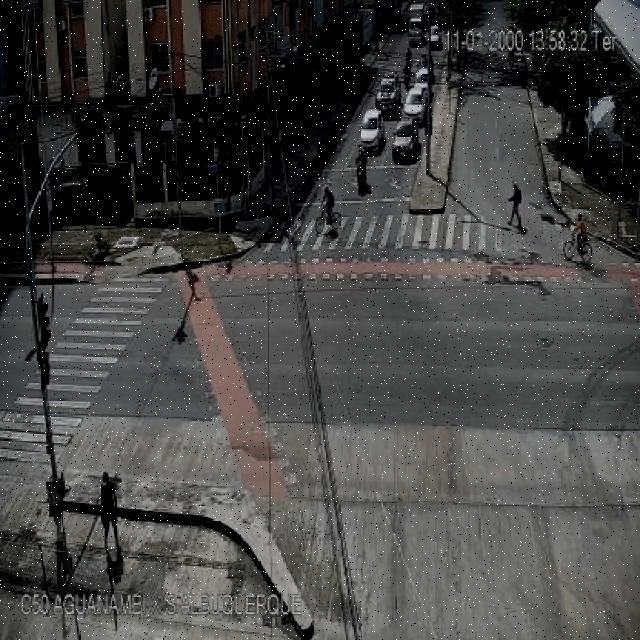Car: (391, 119, 426, 165), (356, 111, 386, 152), (404, 83, 430, 120), (374, 75, 400, 112), (416, 63, 435, 87), (427, 24, 442, 48)
Cycle: (554, 211, 600, 263), (309, 178, 346, 235), (350, 150, 370, 195)
Truck: (404, 5, 427, 55)
